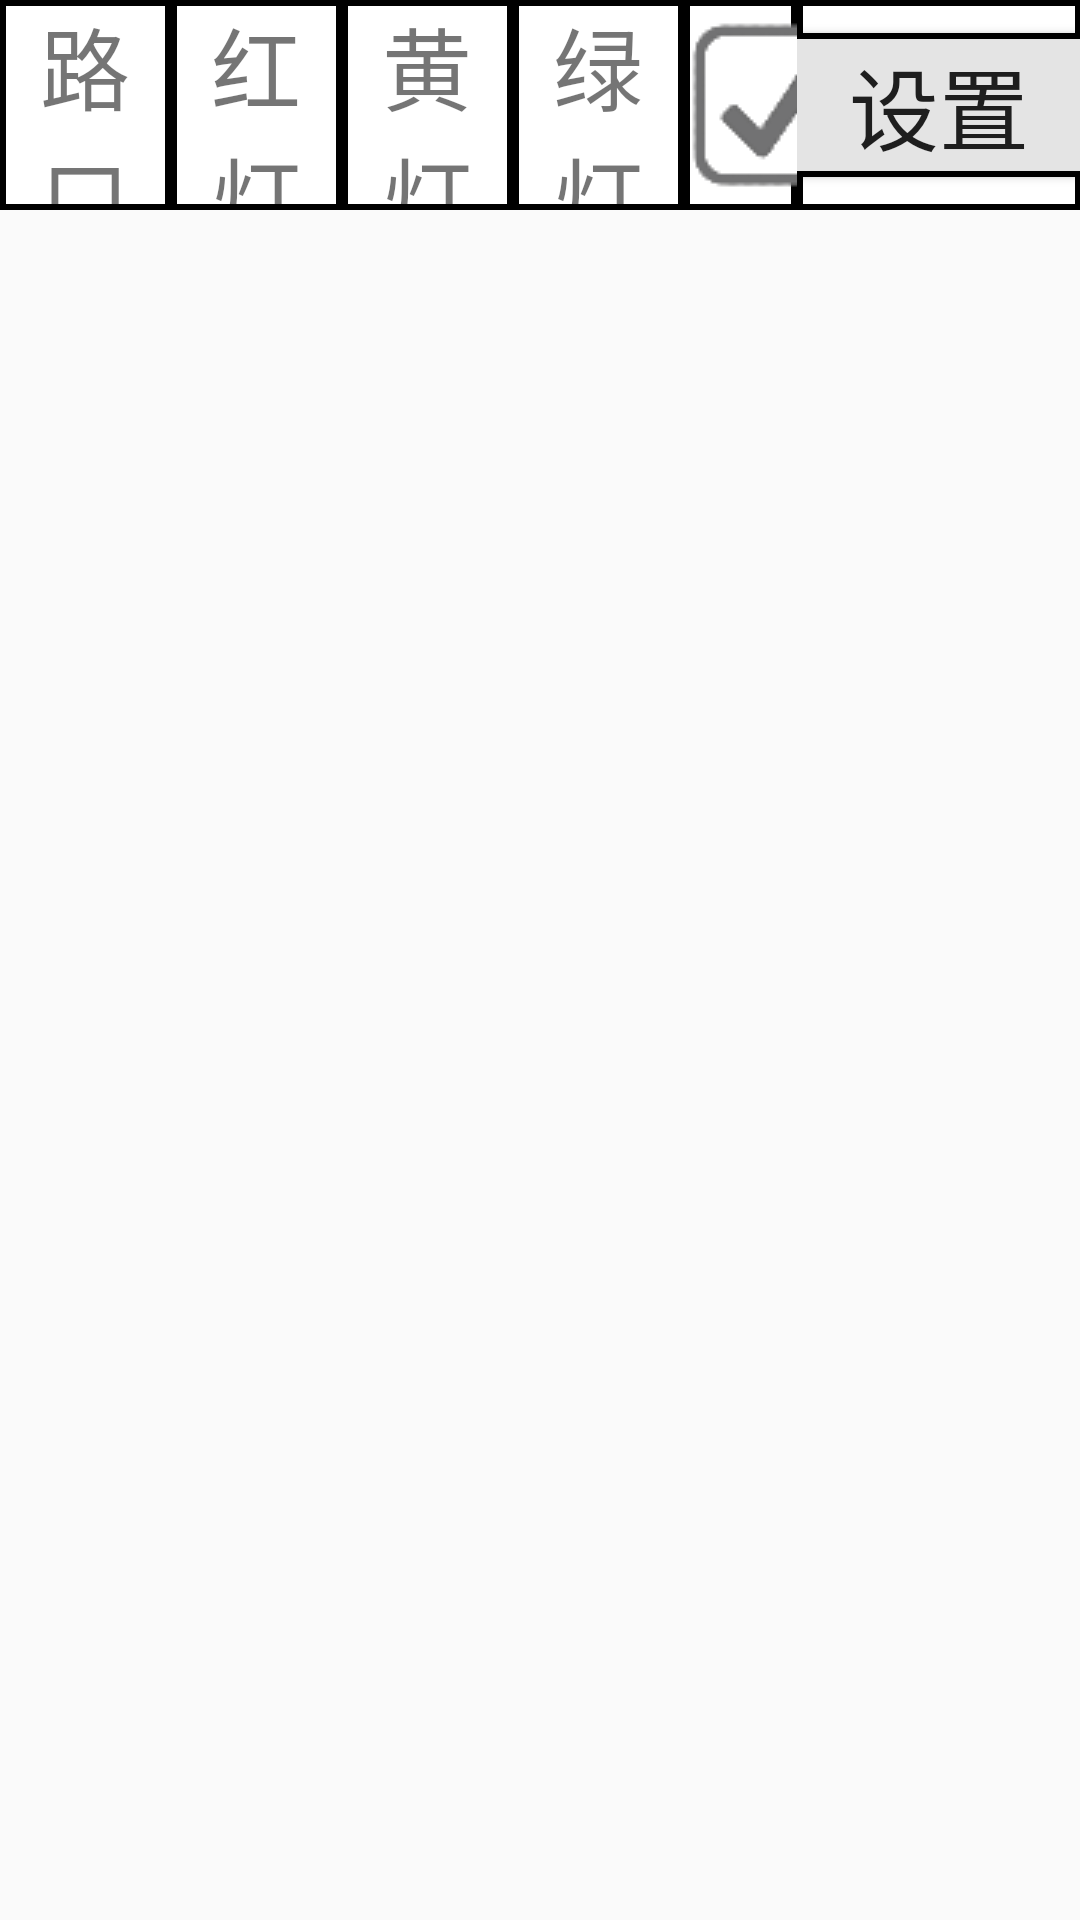

Screen size 1080px×1920px. Icon name, then its center in pixels as (x=x, y=y):
chbox: (x=740, y=105)
